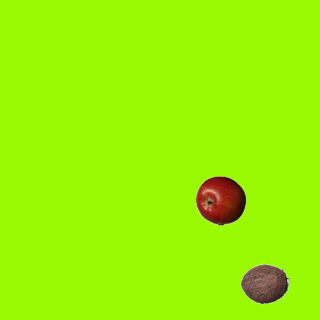Apple Braeburn: (195, 175, 245, 225)
Cocos: (239, 258, 289, 308)
